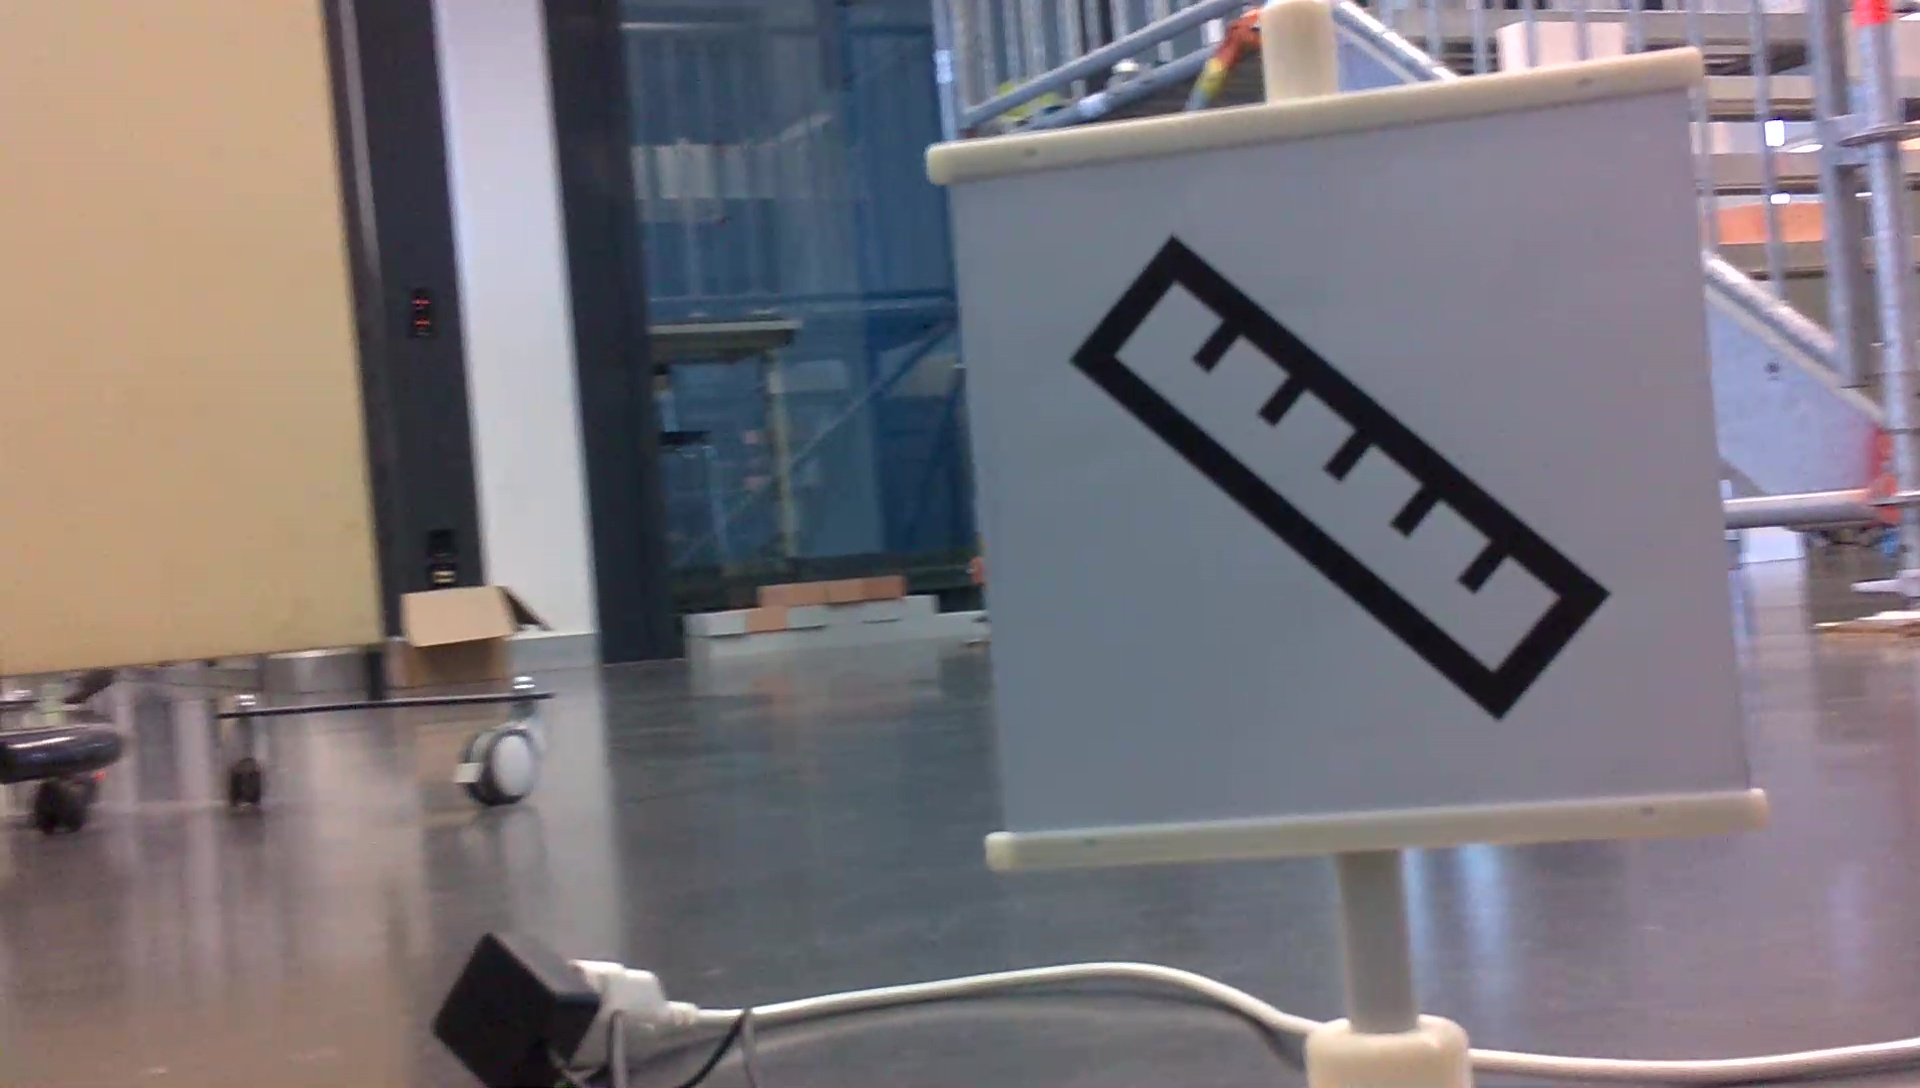ruler: (1065, 210, 1625, 746)
